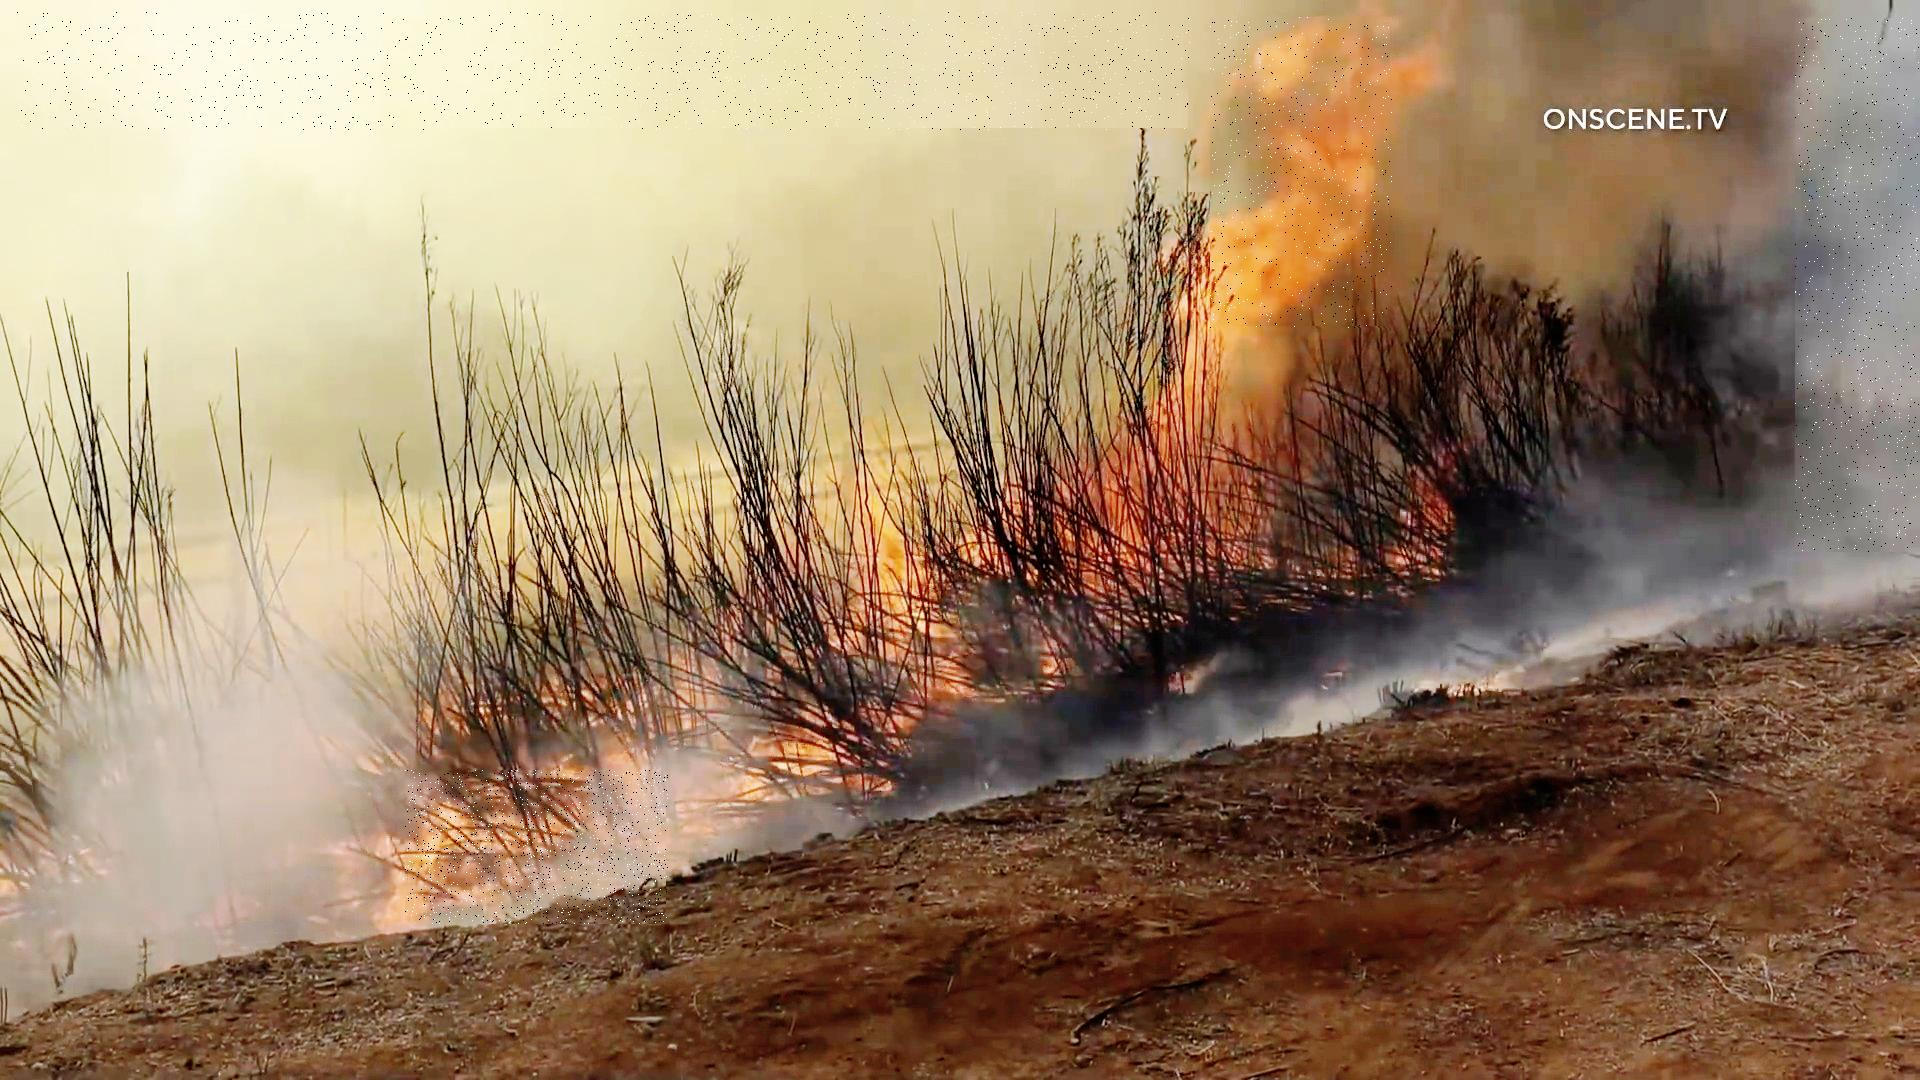fire: (1211, 18, 1393, 328), (406, 770, 669, 924)
smoke: (16, 13, 1191, 131), (1796, 18, 1920, 553)
